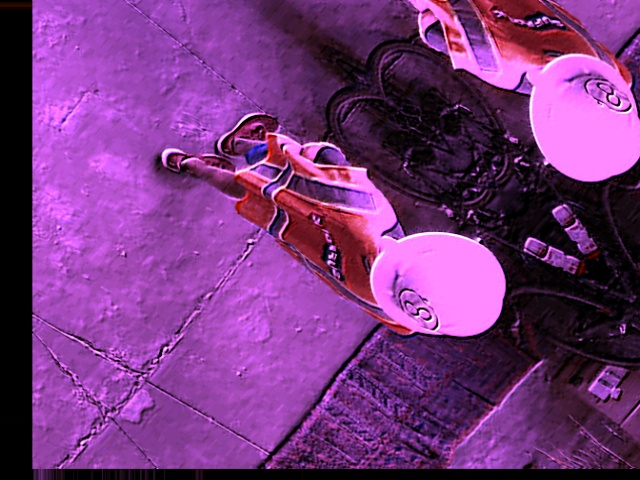eight: (389, 283, 447, 335)
